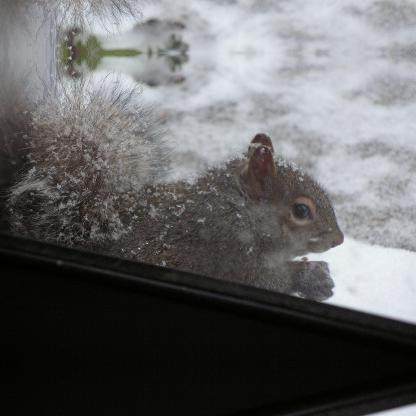Squirrel: (0, 58, 346, 302)
